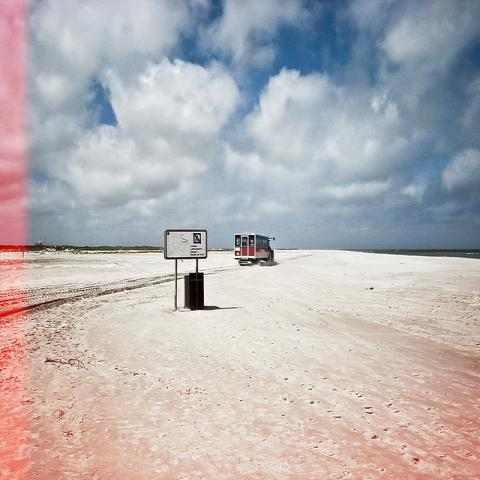bus: (233, 233, 276, 266)
truck: (233, 231, 276, 266)
